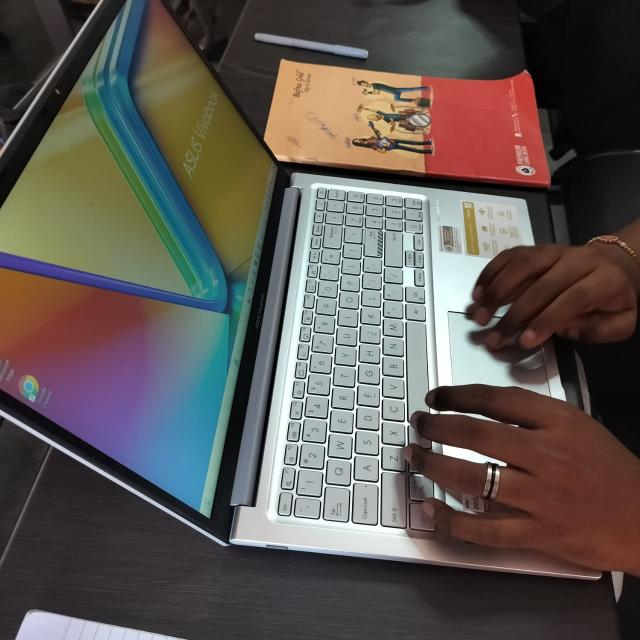laptop: (1, 181, 622, 585)
